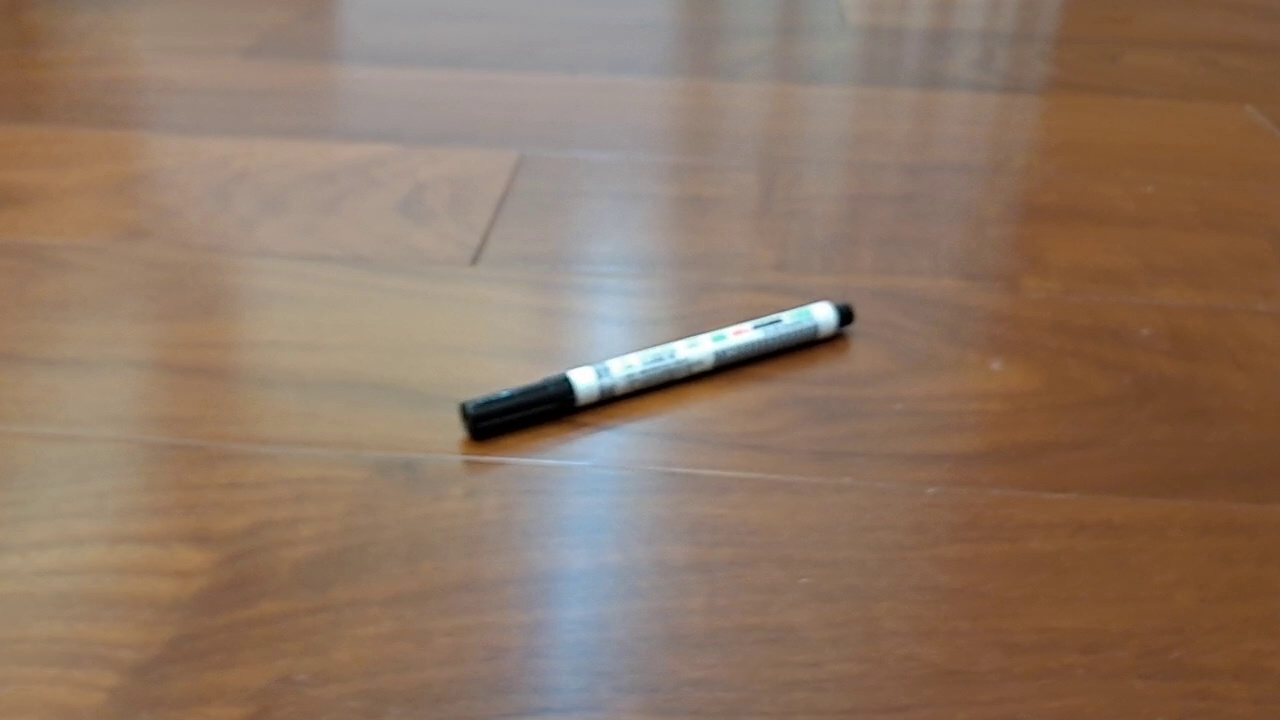pen: (459, 298, 855, 443)
